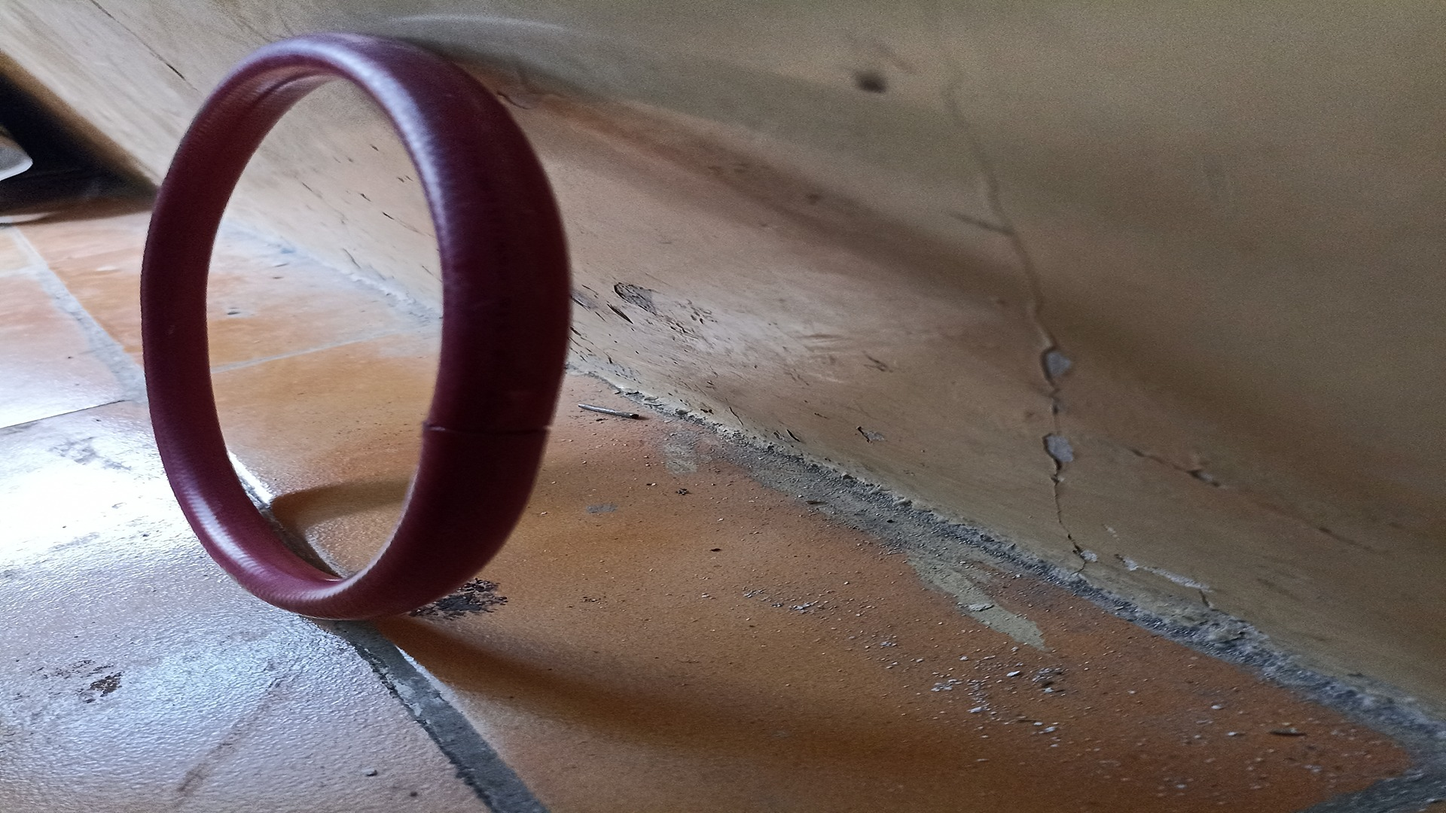Red ring: (136, 27, 566, 628)
